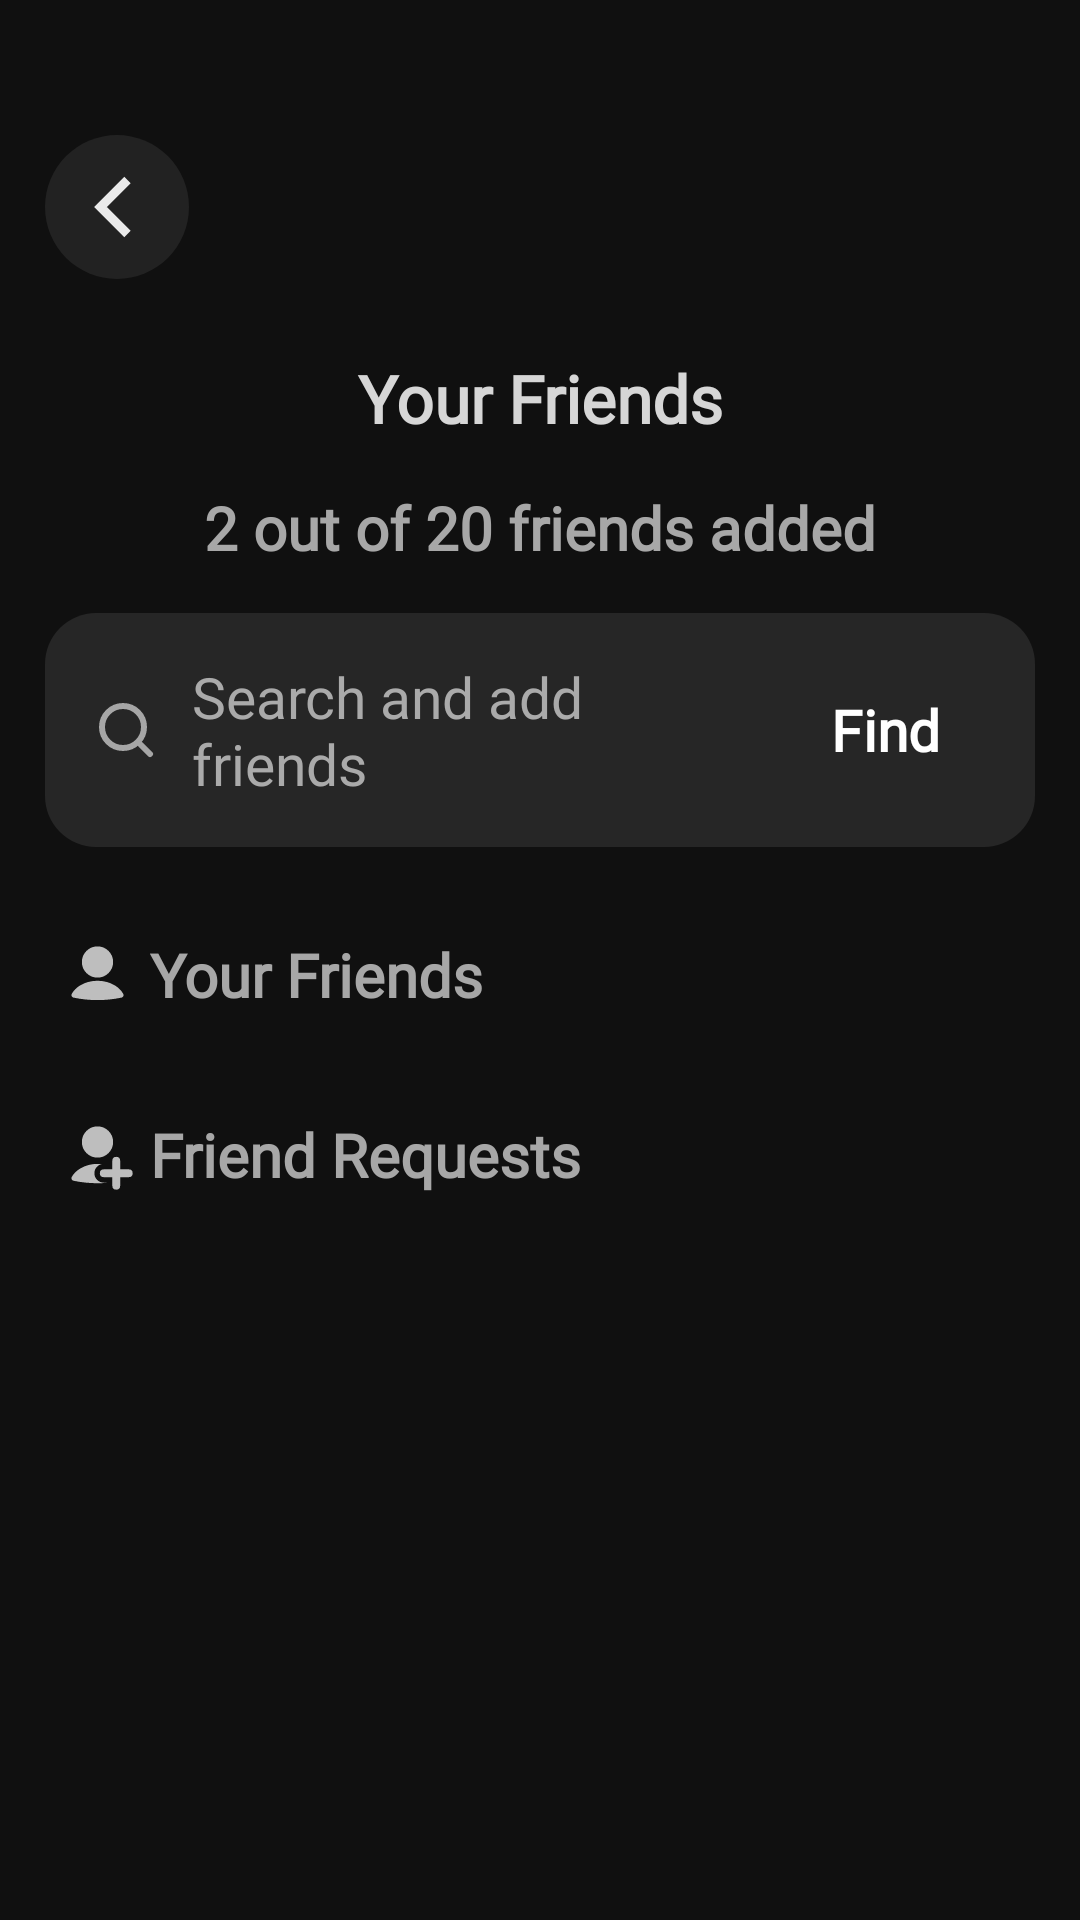

Icon bounding boxes for this 1080x1920 phone screenshot, format (x1, y1, x2, y2):
back left: (45, 135, 189, 279)
